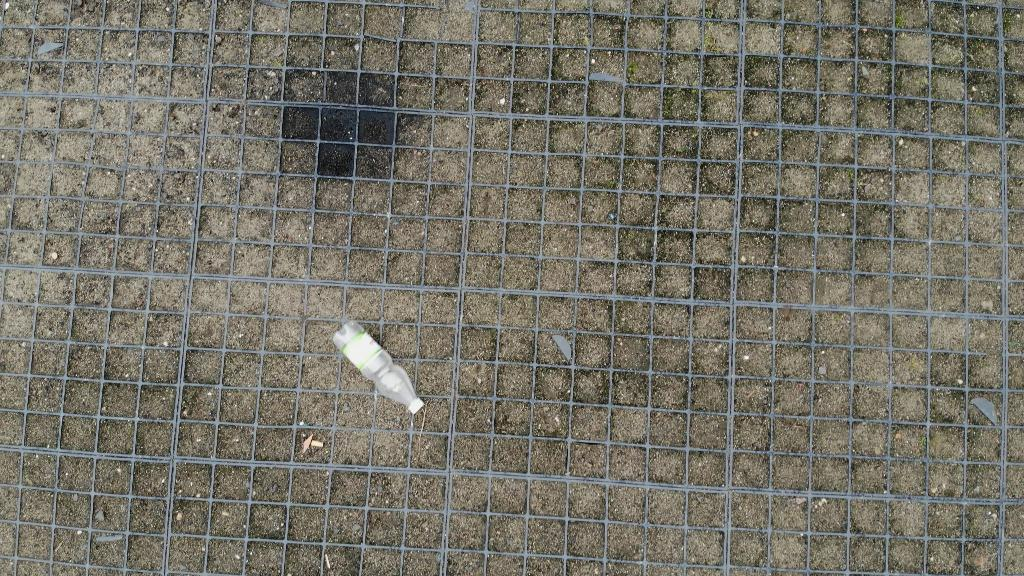garbage: (329, 313, 428, 414)
